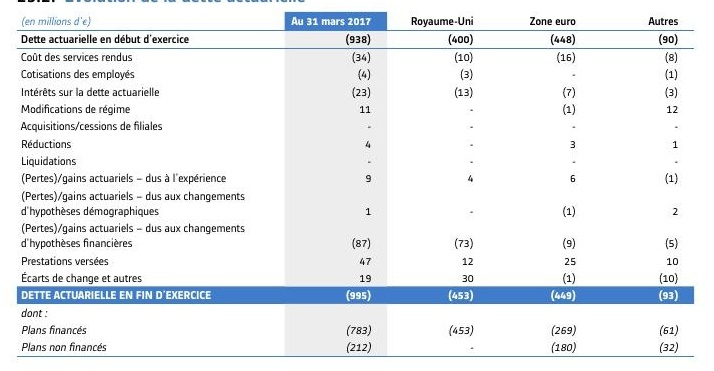table: (0, 0, 714, 371)
